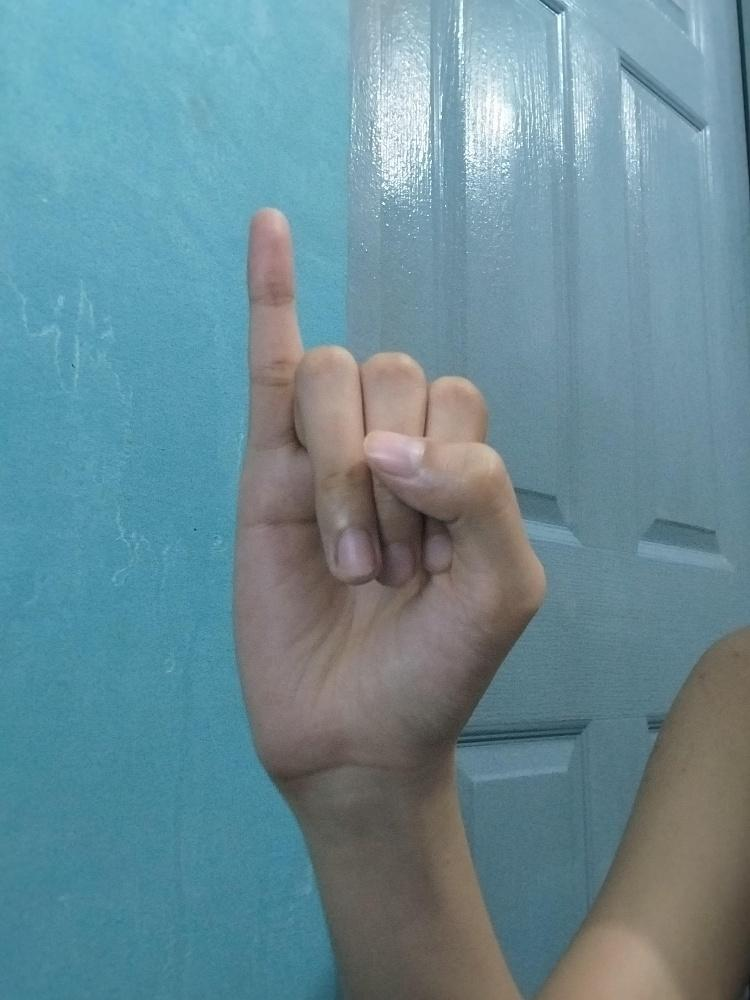i: (234, 202, 547, 767)
